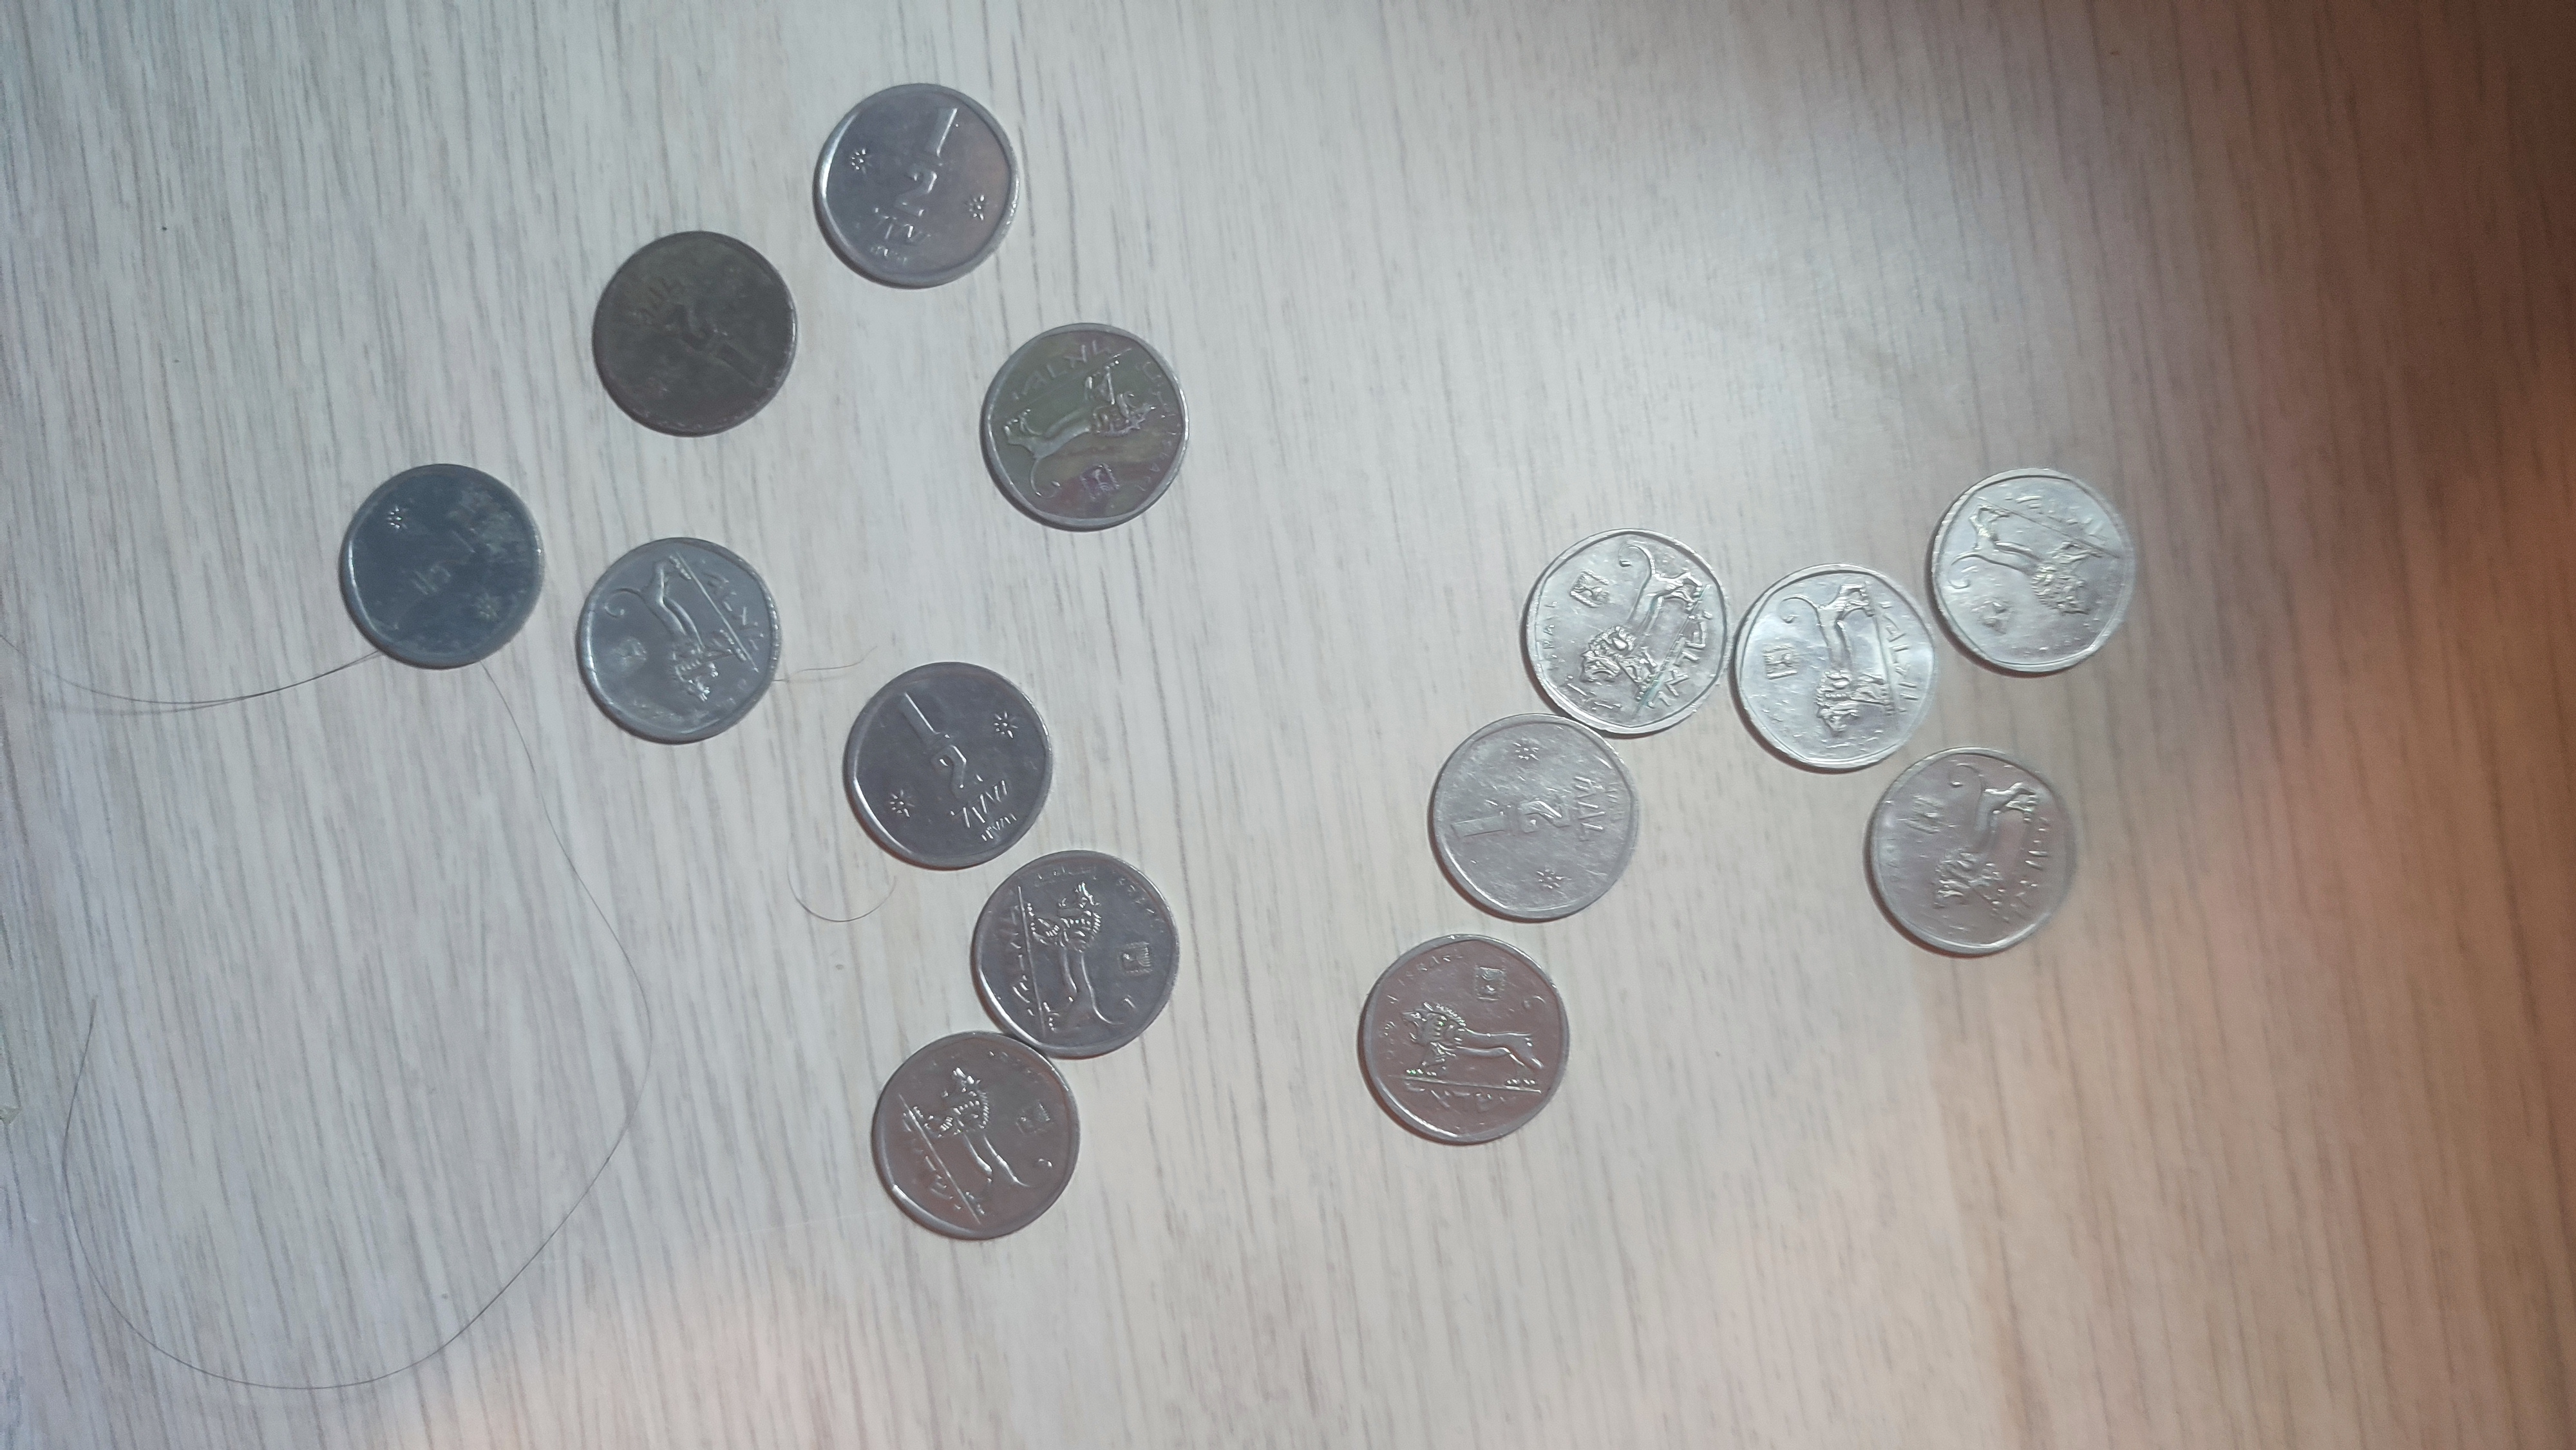1/2 old sheqel: (1859, 743, 2086, 962), (970, 847, 1184, 1065), (1516, 523, 1730, 741), (1355, 934, 1573, 1148), (571, 534, 789, 746), (867, 1027, 1081, 1241), (1426, 711, 1640, 925), (1927, 467, 2141, 681), (840, 660, 1056, 872), (978, 322, 1191, 536), (809, 81, 1023, 292), (586, 226, 800, 437), (338, 462, 548, 672), (1732, 562, 1941, 775), (341, 462, 547, 675)
